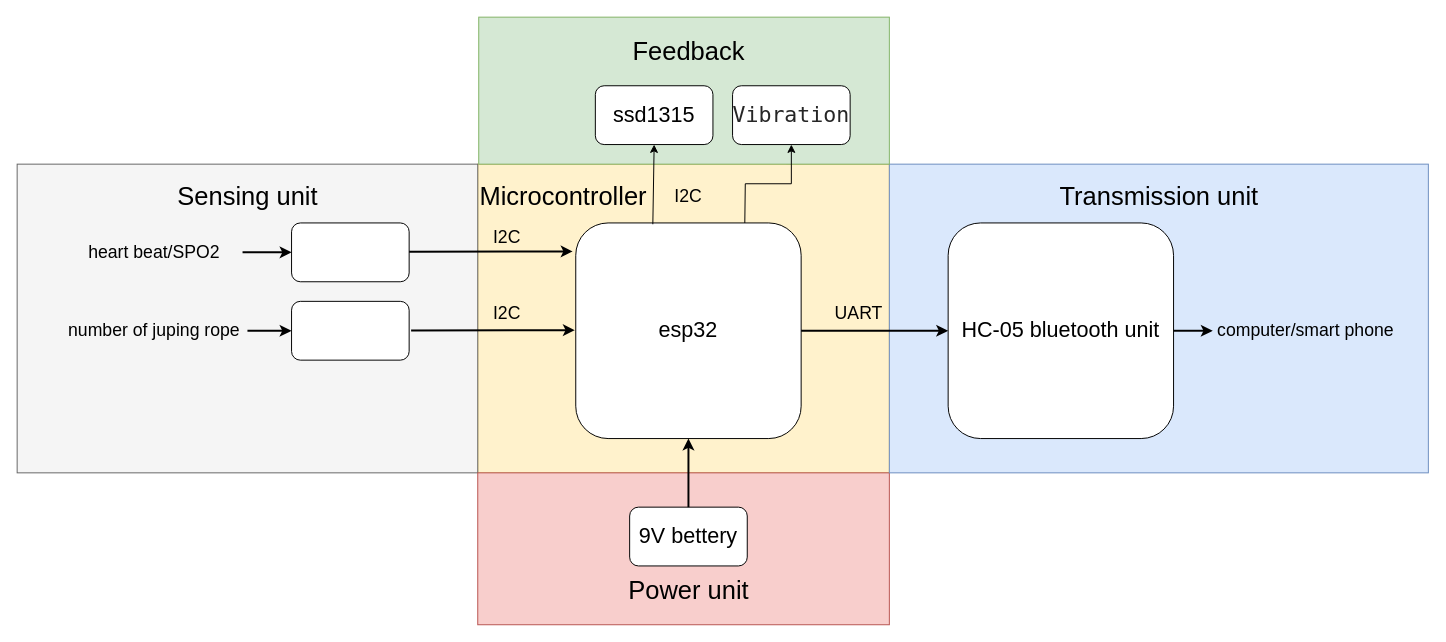
This 1446x642 diagram has some shape labels left out. The shapes that lost their labels are listed below. From the top down, each one's box as (x1, y1, x2, y2) in pixels, then its label:
(291, 222, 409, 282): MAX30102
(291, 300, 409, 360): hall sensor
